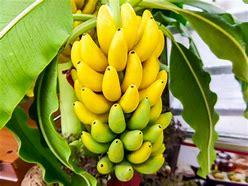banana: (66, 4, 179, 178), (70, 33, 104, 91), (94, 5, 125, 63), (133, 8, 165, 57), (120, 48, 147, 87), (93, 63, 120, 99), (144, 52, 170, 89), (112, 83, 139, 110), (80, 90, 110, 114), (90, 118, 114, 145), (136, 93, 156, 124), (111, 102, 130, 128), (139, 126, 165, 145), (106, 140, 125, 160), (120, 130, 141, 148)
